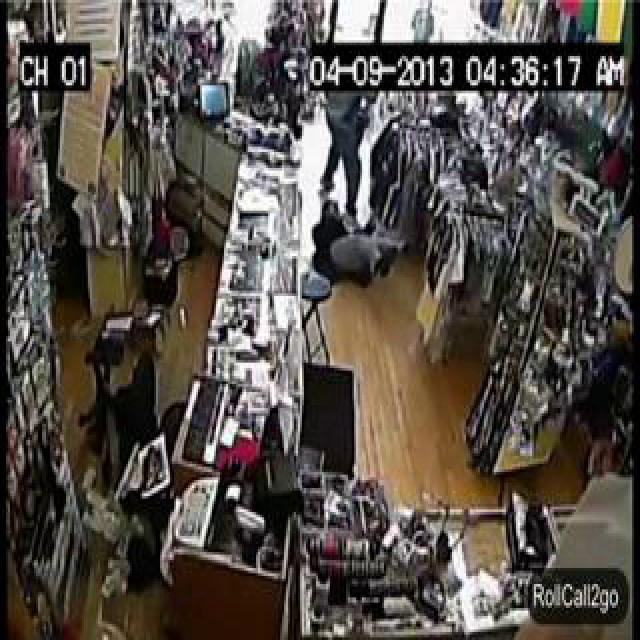robbery: (78, 59, 477, 305)
